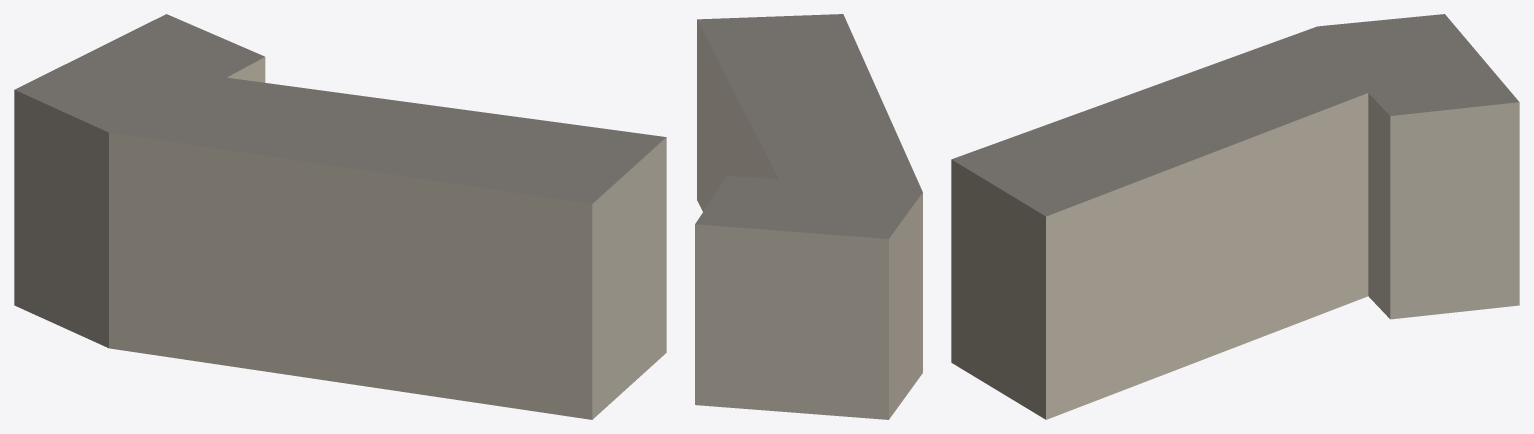
3 views of the same model, side by side, from view 1: azimuth 30°, elevation 25°; view 2: azimuth 150°, elevation 25°; view 3: azimuth 270°, elevation 25° (orthographic). The views are drawn at different scales.
Visible parts, largest first — view 1: HP-w505633431; view 2: HP-w505633431; view 3: HP-w505633431.
Part boxes in pixels (x1,y1,x2,y2): HP-w505633431: (14, 14, 666, 419); HP-w505633431: (695, 14, 922, 419); HP-w505633431: (951, 14, 1519, 419).
Size of the model in its own units: 38.46 by 18 by 45.57.
